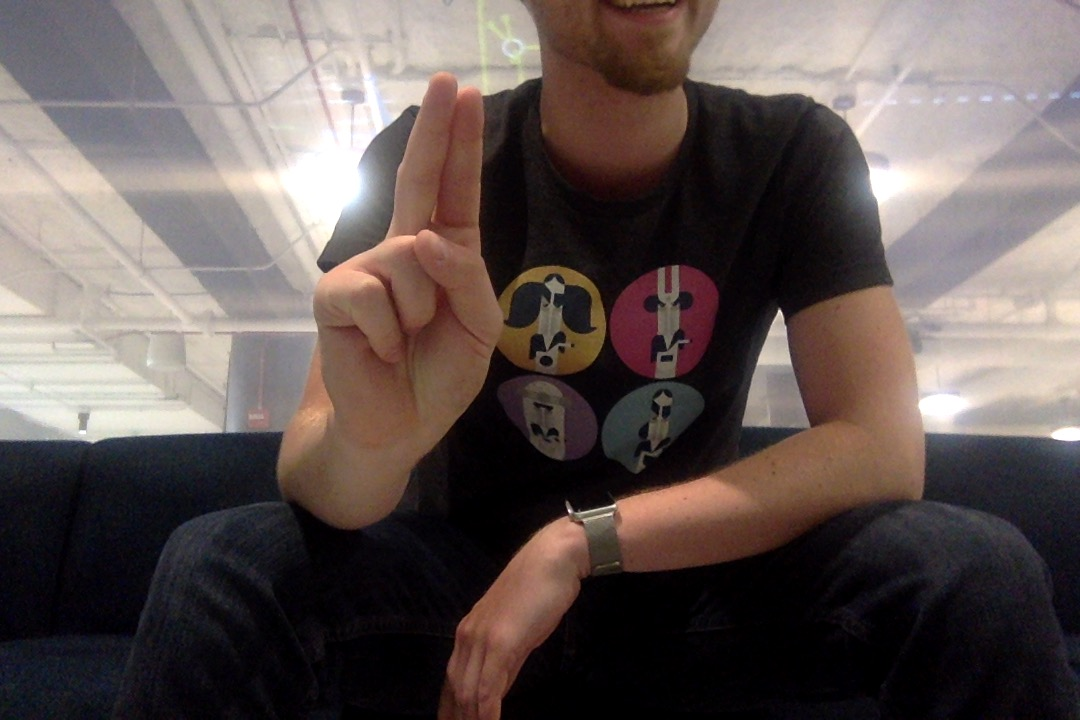u: (309, 68, 510, 460)
